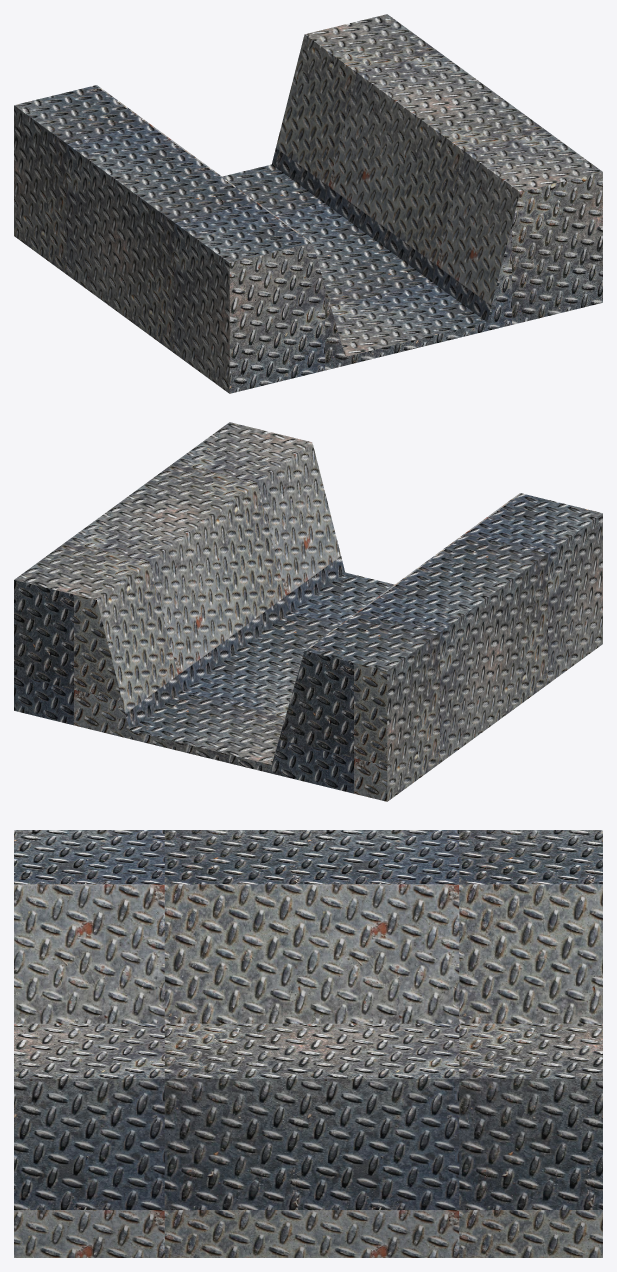
Rendered from Ventilation I.fbx.
3 views of the same model, one above another, from view 1: azimuth 30°, elevation 25°; view 2: azimuth 150°, elevation 25°; view 3: azimuth 270°, elevation 25° (orthographic). The views are drawn at different scales.
Visible parts, largest first — view 1: Ventilation I; view 2: Ventilation I; view 3: Ventilation I.
Boxes of the visible parts, x1,y1,x2,y2 form: Ventilation I: (14,14,602,393); Ventilation I: (14,422,602,801); Ventilation I: (14,830,602,1257).
Bounding box in the file's own units: 443 × 148 × 443.
